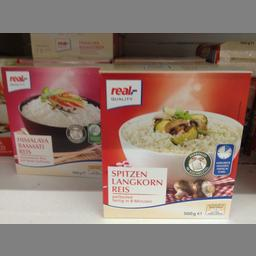rice: (98, 63, 252, 217), (0, 61, 99, 176)
